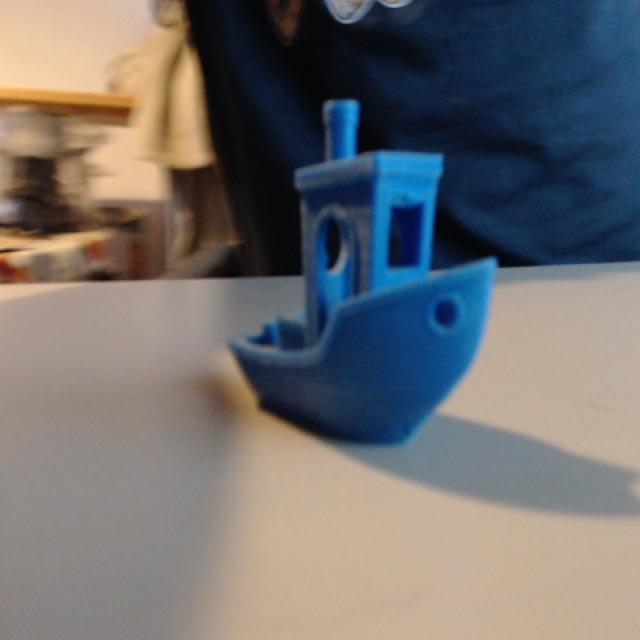benchy: (226, 93, 499, 450)
